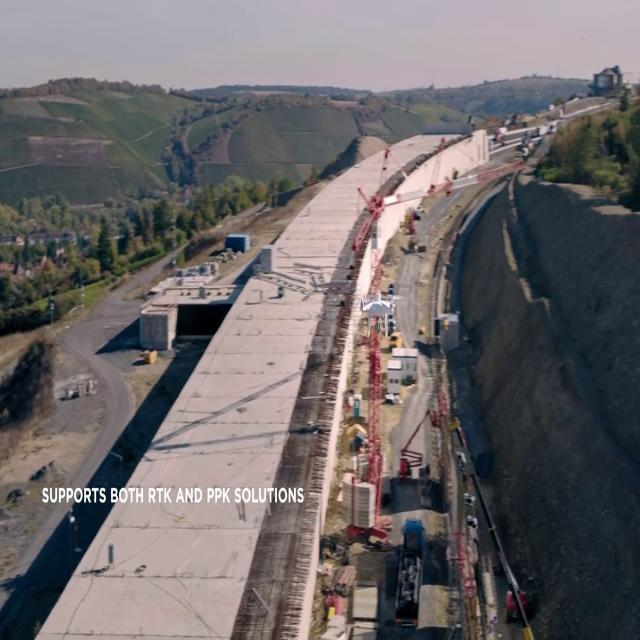drone: (357, 290, 401, 340)
